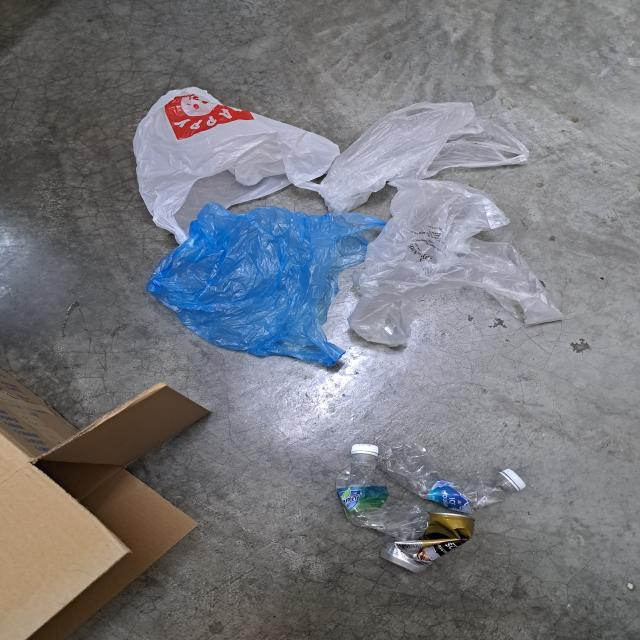can: (380, 512, 476, 574)
cardboard: (0, 363, 214, 640)
plastic bag: (146, 201, 387, 368), (345, 180, 565, 346), (130, 88, 341, 242), (319, 101, 531, 214)
plastic bottle: (378, 442, 517, 513), (335, 455, 427, 540)
plastic bottle cap: (502, 468, 526, 491), (351, 444, 379, 454)
